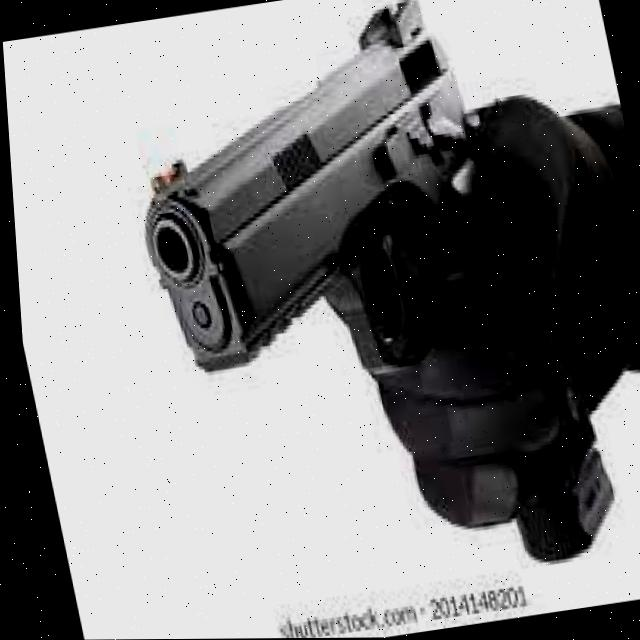gun: (143, 0, 471, 373), (515, 331, 614, 564)
